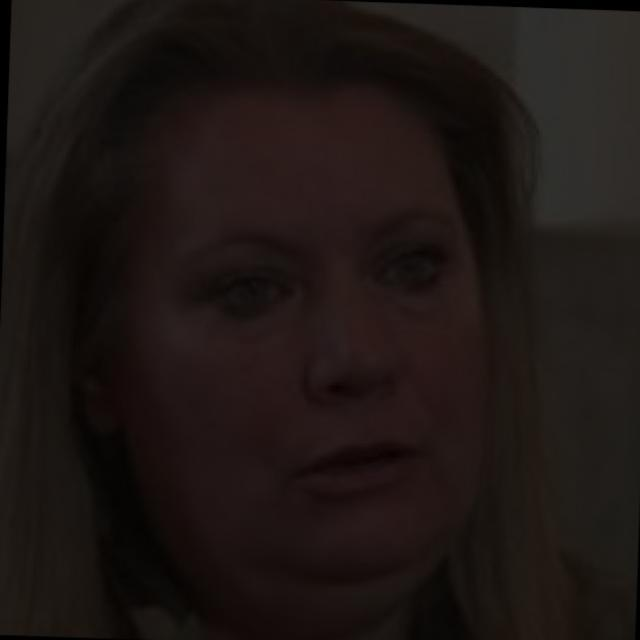Sad: (100, 132, 569, 576)
